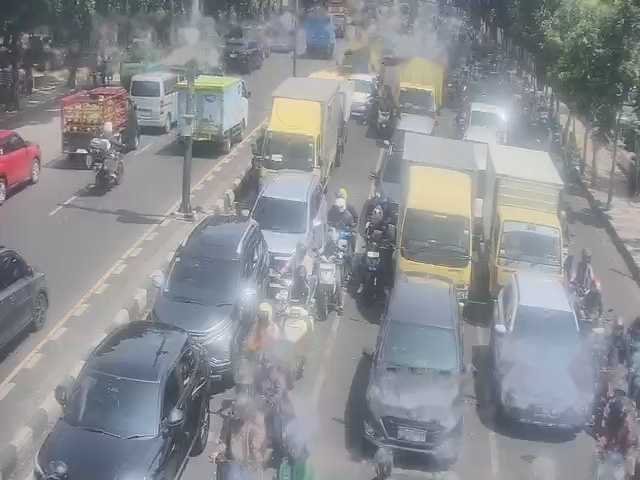Mobil: (47, 323, 205, 480), (365, 281, 457, 459), (154, 213, 262, 345), (501, 276, 586, 421), (60, 93, 139, 152), (0, 244, 37, 357), (0, 127, 40, 202), (129, 72, 178, 131), (370, 129, 408, 205), (463, 104, 507, 143)
Motor: (313, 263, 338, 319), (595, 441, 627, 478), (570, 248, 594, 295), (285, 302, 305, 354), (337, 223, 353, 270), (366, 236, 379, 288), (269, 276, 282, 313)
Truk: (400, 143, 485, 292), (254, 77, 347, 186), (495, 150, 564, 283), (174, 75, 250, 152), (385, 57, 445, 118)
